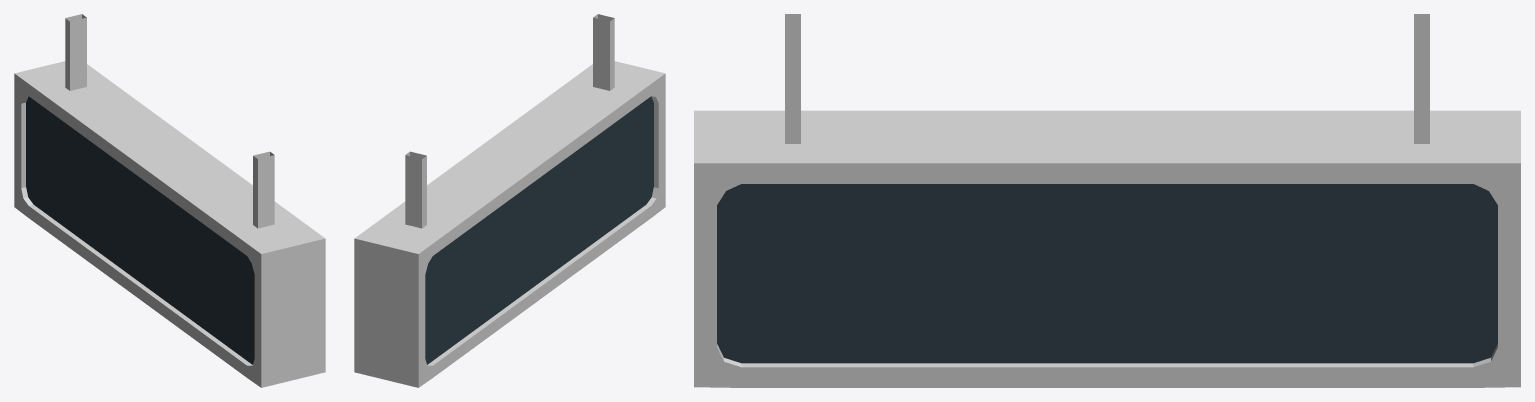
The model's file is hanging-display.glb.
3 views of the same model, side by side, from view 1: azimuth 30°, elevation 25°; view 2: azimuth 150°, elevation 25°; view 3: azimuth 270°, elevation 25° (orthographic). The views are drawn at different scales.
Visible parts, largest first — view 1: Cube_Cube.001 / Metal, Cube_Cube.001 / Display; view 2: Cube_Cube.001 / Metal, Cube_Cube.001 / Display; view 3: Cube_Cube.001 / Display, Cube_Cube.001 / Metal.
Boxes of the visible parts, box(x1,y1,x2,y2) form: Cube_Cube.001 / Metal: box(14, 14, 325, 387); Cube_Cube.001 / Display: box(26, 96, 254, 364); Cube_Cube.001 / Metal: box(354, 14, 665, 387); Cube_Cube.001 / Display: box(425, 96, 653, 364); Cube_Cube.001 / Display: box(717, 184, 1497, 363); Cube_Cube.001 / Metal: box(694, 14, 1520, 387).
Bounding box in the file's own units: 0.3 × 0.91 × 2.
